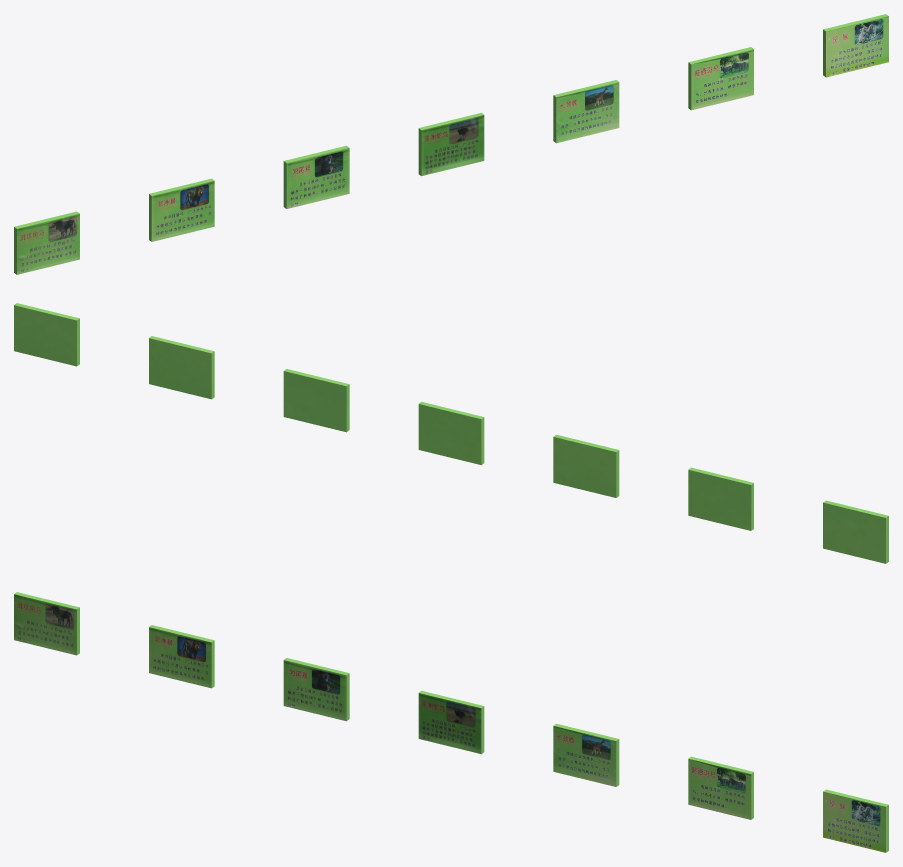
Rendered from XiShuCaoYuanShengTai.fbx.
The picture shows the model from 3 angles, top to bottom: view 1: azimuth 30°, elevation 25°; view 2: azimuth 150°, elevation 25°; view 3: azimuth 330°, elevation 25°; orthographic projection.
Parts seen in each view (by area): view 1: XiShuCaoYuanShengTai; view 2: XiShuCaoYuanShengTai; view 3: XiShuCaoYuanShengTai.
Part boxes in pixels (<box>): XiShuCaoYuanShengTai: <box>14,14,888,274</box>; XiShuCaoYuanShengTai: <box>14,303,888,563</box>; XiShuCaoYuanShengTai: <box>14,592,888,852</box>.
Size of the model in its own units: 39.16 by 1.97 by 0.2308.
Materials: 1 (1 with a texture image).
